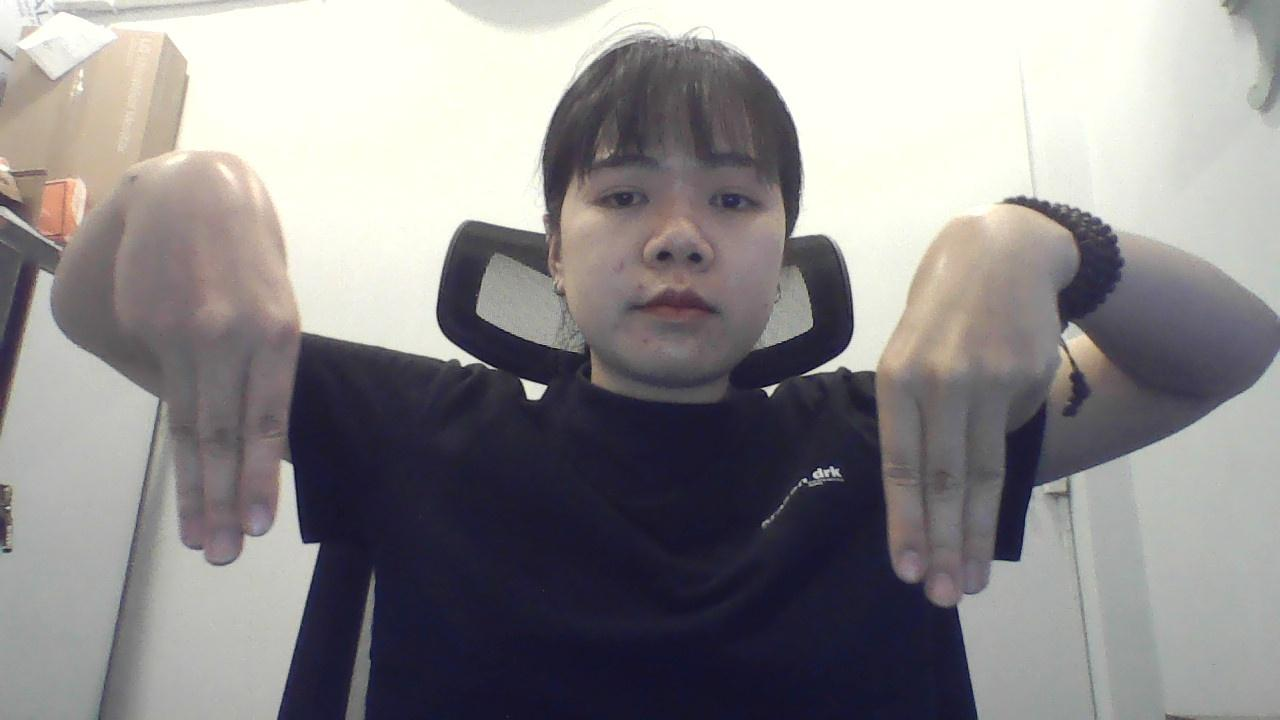M: (106, 144, 304, 574), (877, 191, 1064, 616)
